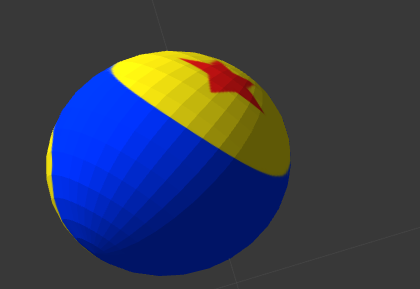toy story ball: (46, 50, 291, 276)
